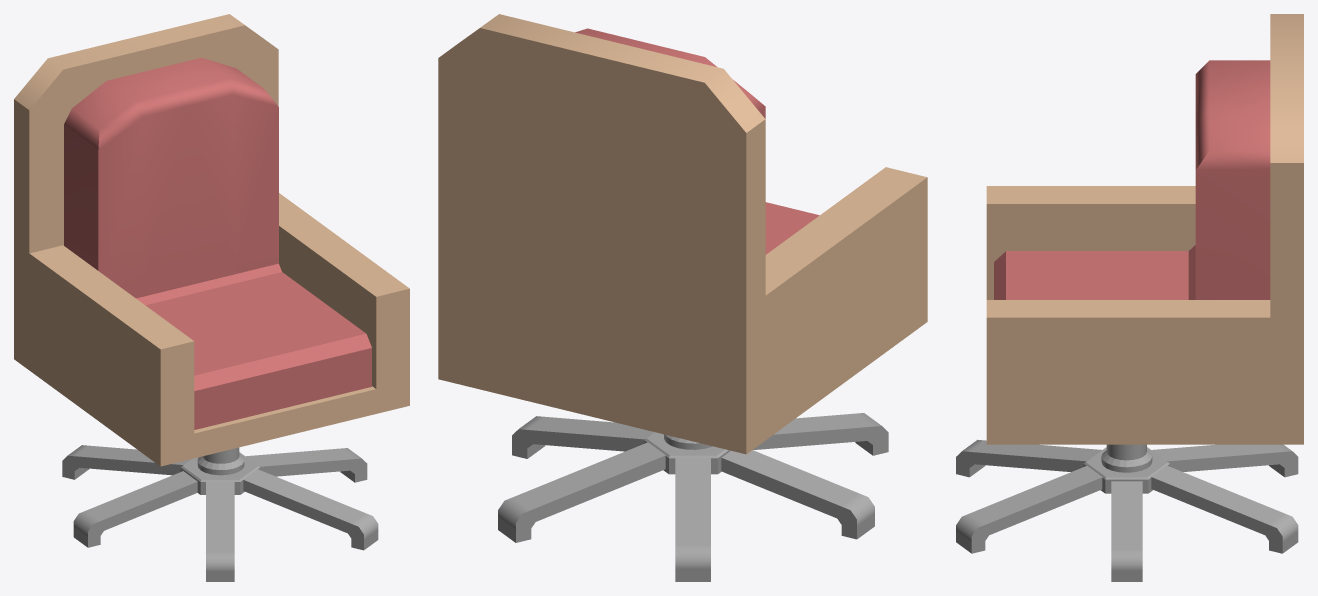
The model's file is PRP_RoomChair.fbx.
3 renders of one model, left to right at view 1: azimuth 30°, elevation 25°; view 2: azimuth 150°, elevation 25°; view 3: azimuth 270°, elevation 25°, orthographic. The views are drawn at different scales.
Visible parts, largest first — view 1: pCube7, pCube8, pCube13, pCylinder2, pCylinder1; view 2: pCube8, pCube13, pCube7, pCylinder2; view 3: pCube8, pCube7, pCube13, pCylinder2, pCylinder1.
Part boxes in pixels (x1,y1,x2,y2): pCube7: [64, 57, 371, 429]; pCube8: [14, 14, 409, 466]; pCube13: [62, 445, 378, 581]; pCylinder2: [180, 452, 260, 494]; pCylinder1: [197, 447, 244, 475]; pCube8: [438, 14, 927, 454]; pCube13: [498, 413, 888, 581]; pCube7: [575, 28, 819, 254]; pCylinder2: [644, 432, 730, 474]; pCube8: [986, 14, 1303, 444]; pCube7: [994, 60, 1270, 299]; pCube13: [956, 439, 1298, 581]; pCylinder2: [1083, 447, 1169, 493]; pCylinder1: [1101, 444, 1152, 472].
Size of the model in its own units: 1.71 by 2.41 by 1.7.
